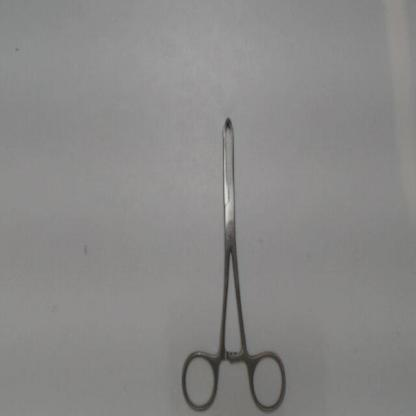Allis Tissue Forceps: (176, 106, 292, 413)
